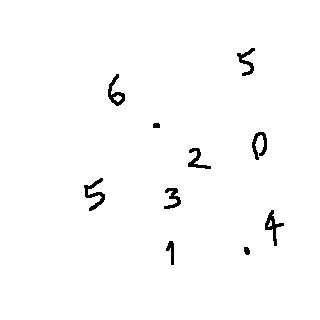.: (147, 117, 172, 141), (242, 244, 261, 266)
0: (241, 124, 278, 168)
1: (161, 235, 181, 268)
2: (182, 144, 216, 177)
3: (160, 180, 185, 220)
4: (264, 207, 294, 249)
5: (77, 173, 119, 221), (232, 41, 266, 83)
6: (97, 68, 136, 109)
